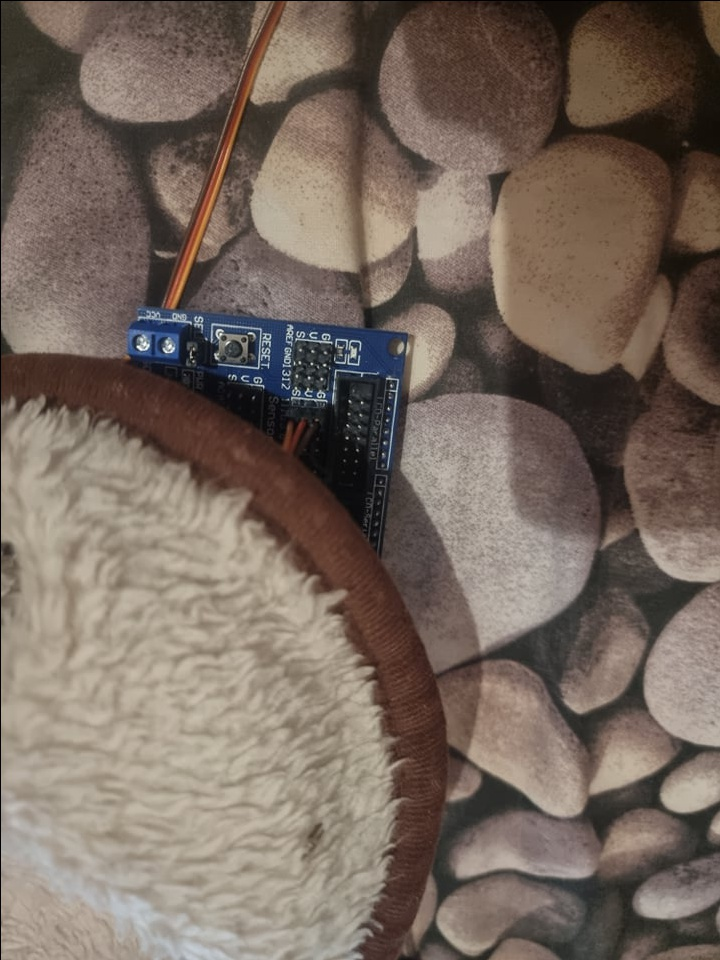5V EXPANSION: (125, 301, 413, 576)
